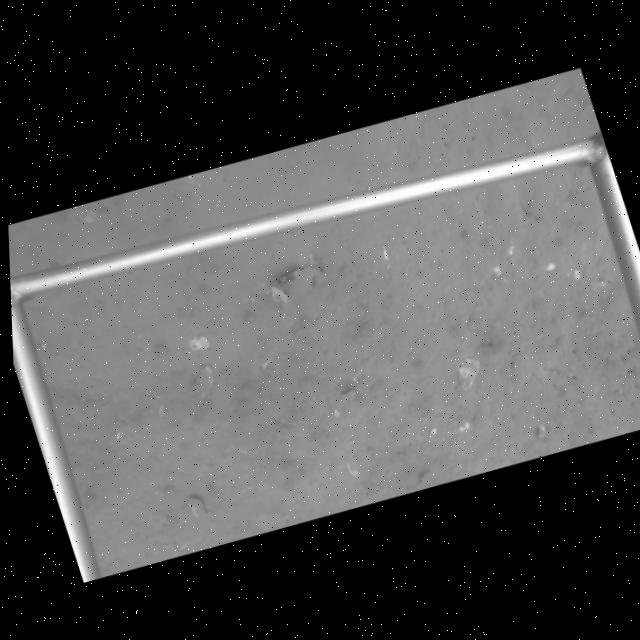Oyster-Indeterminate: (272, 262, 323, 298)
